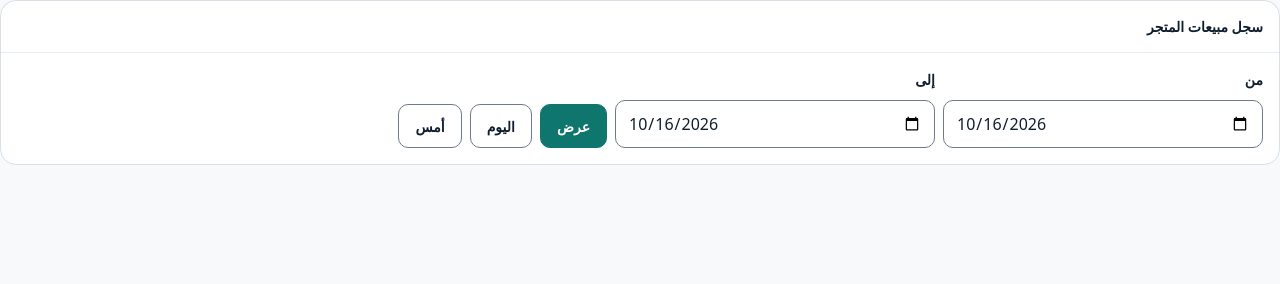
Scenario: RT-542 SalesHistory — states › says "this device only" offline
Click the button "عرض" at (574, 126), box [540,104,607,148]
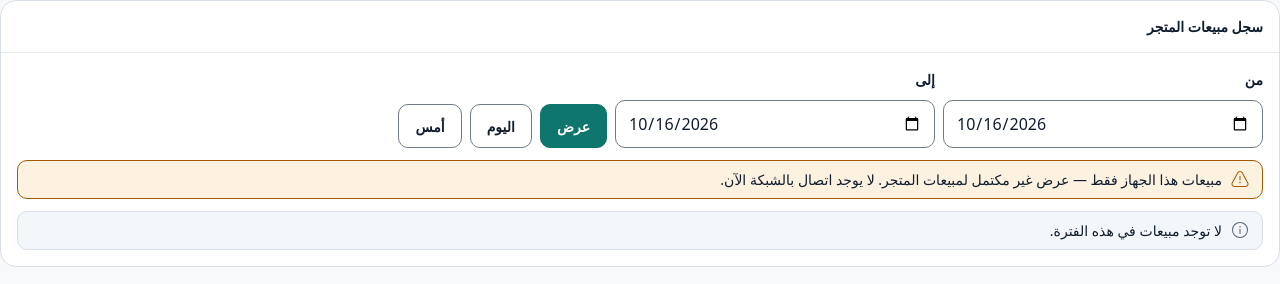
Expected: the message with test id "history-coverage" shows "مبيعات هذا الجهاز فقط — عرض غير مكتمل لمبيعات المتجر.", [878,170,1222,189]
Expected: the message with test id "history-empty" reads "لا توجد مبيعات في هذه الفترة.", [1050,221,1222,240]
